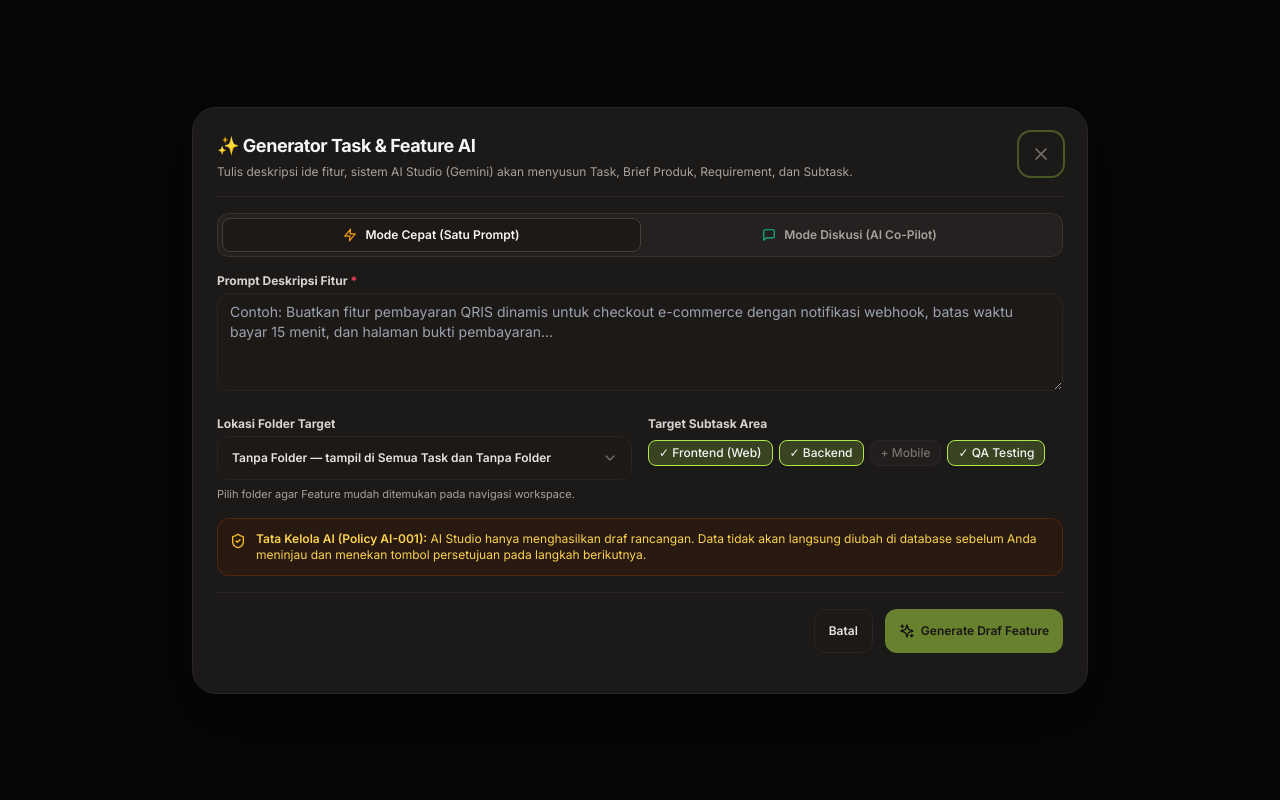
Test: AiTaskGeneratorModal Organism › asks for clarification and keeps Apply unavailable when generation has no usable intent
The image size is (1280, 800).
Replace the text in the text box with placeholder "Contoh: Buatkan fitur pembayaran QRIS dinamis" with "aswdas asdnasjkldn asdjjaskld sdzkhsdzbflsdjkb" at (640, 342), box [217, 292, 1063, 390]
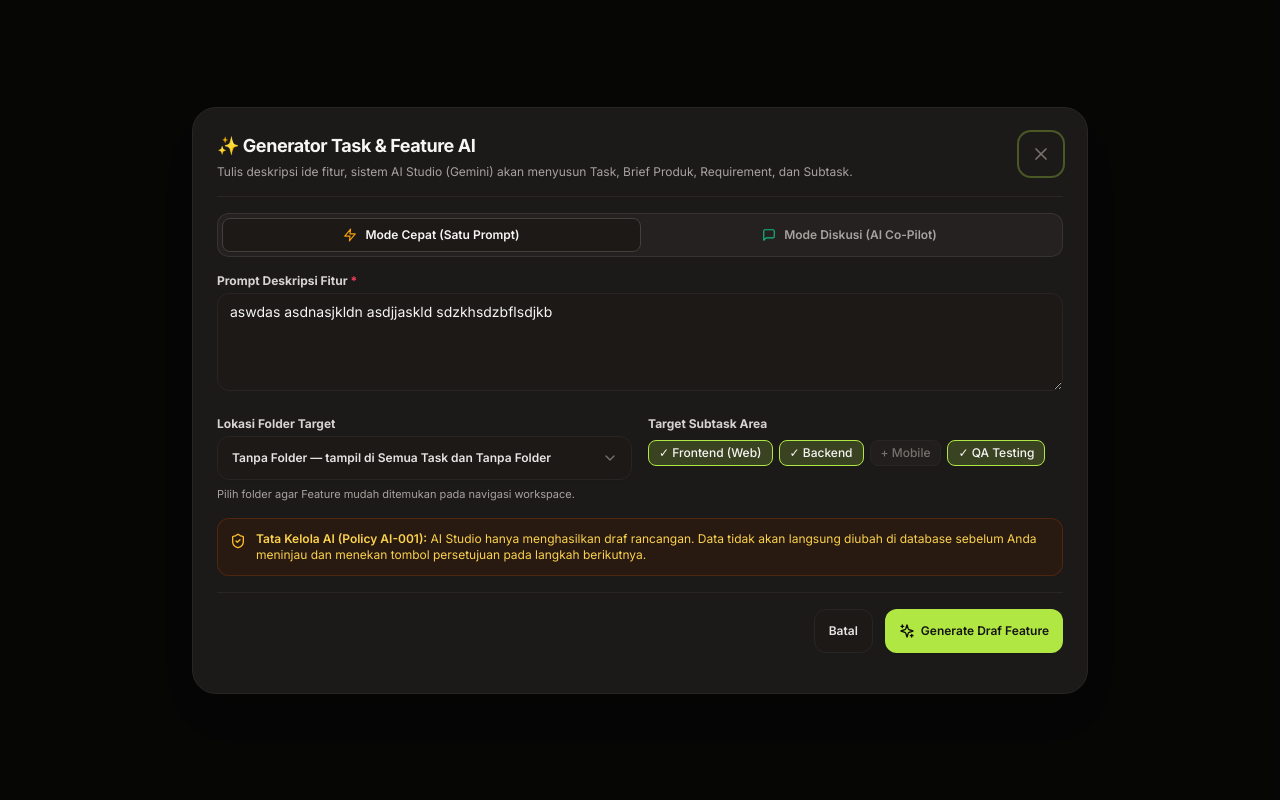
Click the button "Generate Draf Feature" at (974, 630), box [885, 608, 1063, 652]
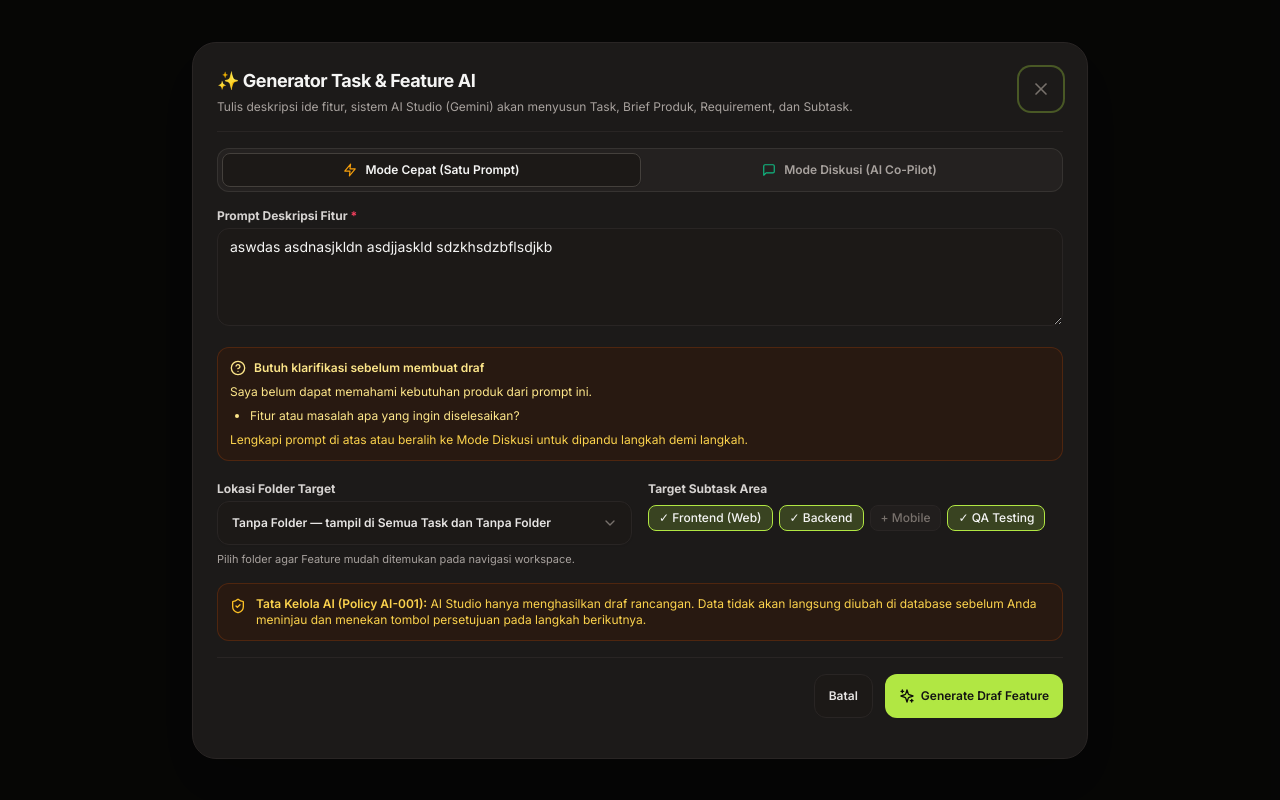
Check: the message shows "Butuh klarifikasi sebelum membuat draf", box [254, 360, 484, 374]
Check: the list item "Fitur atau masalah apa yang ingin diselesaikan?" is shown, box [250, 408, 520, 422]
